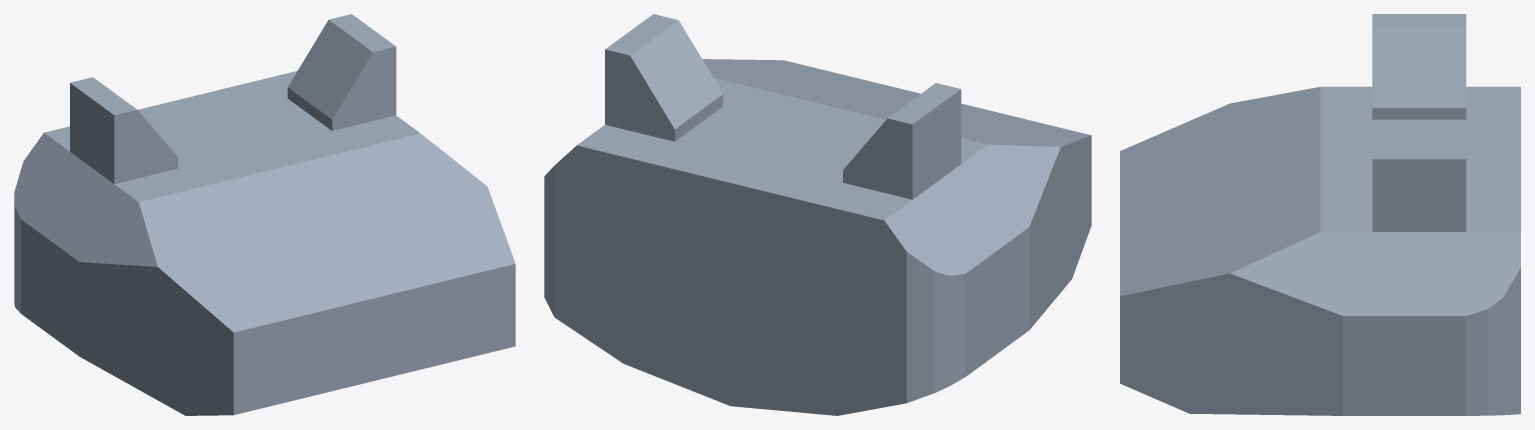
Rendered from head.obj.
The picture shows the model from 3 angles, left to right: view 1: azimuth 30°, elevation 25°; view 2: azimuth 150°, elevation 25°; view 3: azimuth 270°, elevation 25°; orthographic projection. The views are drawn at different scales.
Parts seen in each view (by area): view 1: 1; view 2: 1; view 3: 1.
Boxes of the visible parts, <box> form: 1: <box>14,14,515,415</box>; 1: <box>544,14,1091,415</box>; 1: <box>1120,14,1520,415</box>.
Size of the model in its own units: 0.0403 by 0.0278 by 0.035.
